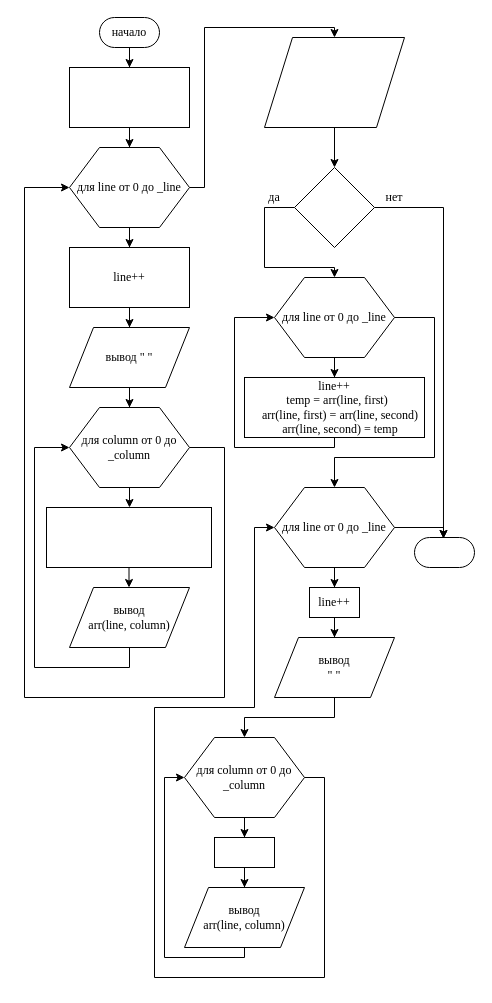
This 492x1003 diagram has some shape labels left out. The centre of each missing label's shape, as x and y in pixels:
_column = 18 _line = 24: the point at 129,97
column++: the point at 244,852
column++ arr(line, column)= (rand() % 20): the point at 129,537
i < j: the point at 334,207
вывод i= ввод i вывод j= ввод j: the point at 334,82
конец: the point at 444,552
